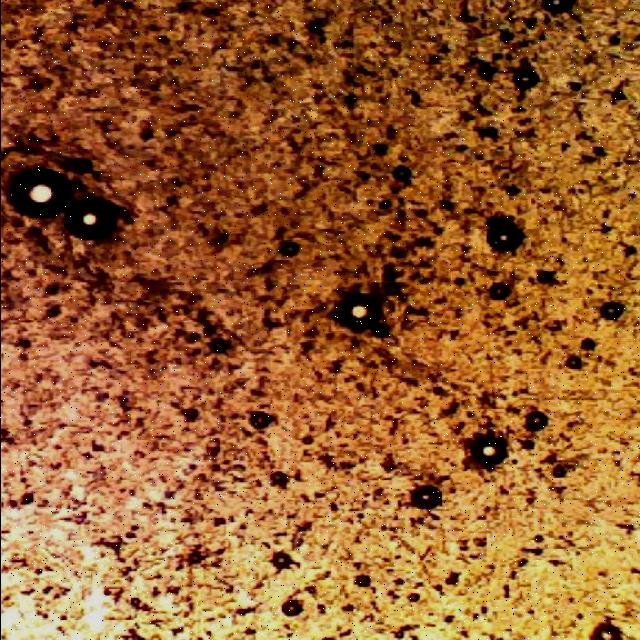microbeads: (5, 166, 71, 226), (59, 193, 122, 249), (326, 292, 384, 332), (459, 434, 511, 474), (482, 220, 530, 253), (406, 486, 444, 510)
